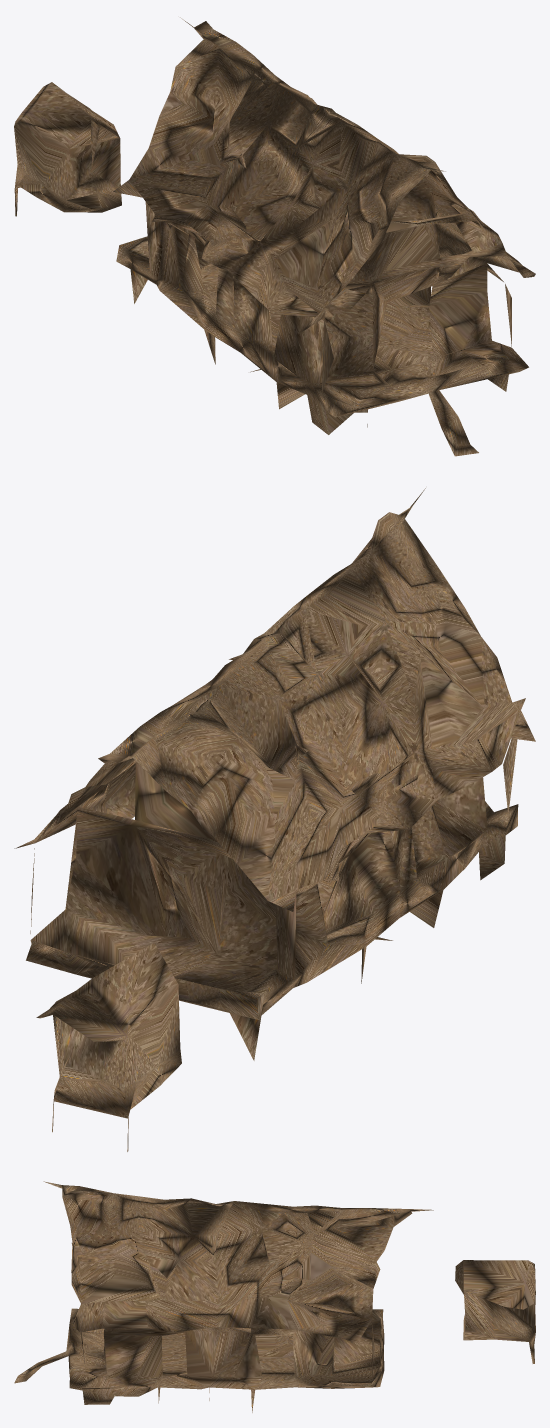
Rendered from h_long_far.glb.
3 renders of one model, top to bottom at view 1: azimuth 30°, elevation 25°; view 2: azimuth 150°, elevation 25°; view 3: azimuth 270°, elevation 25°, orthographic. The views are drawn at different scales.
Visible parts, largest first — view 1: tripo_node_b7259bf6-2ff5-4d1c-ad65-01faa6cf8b5c; view 2: tripo_node_b7259bf6-2ff5-4d1c-ad65-01faa6cf8b5c; view 3: tripo_node_b7259bf6-2ff5-4d1c-ad65-01faa6cf8b5c.
Boxes of the visible parts, x1,y1,x2,y2 form: tripo_node_b7259bf6-2ff5-4d1c-ad65-01faa6cf8b5c: (14, 17, 535, 456); tripo_node_b7259bf6-2ff5-4d1c-ad65-01faa6cf8b5c: (14, 488, 535, 1151); tripo_node_b7259bf6-2ff5-4d1c-ad65-01faa6cf8b5c: (14, 1181, 535, 1412).
Bounding box in the file's own units: 0.3709 × 0.4184 × 0.9763.
Materials: 1 (1 with a texture image).
